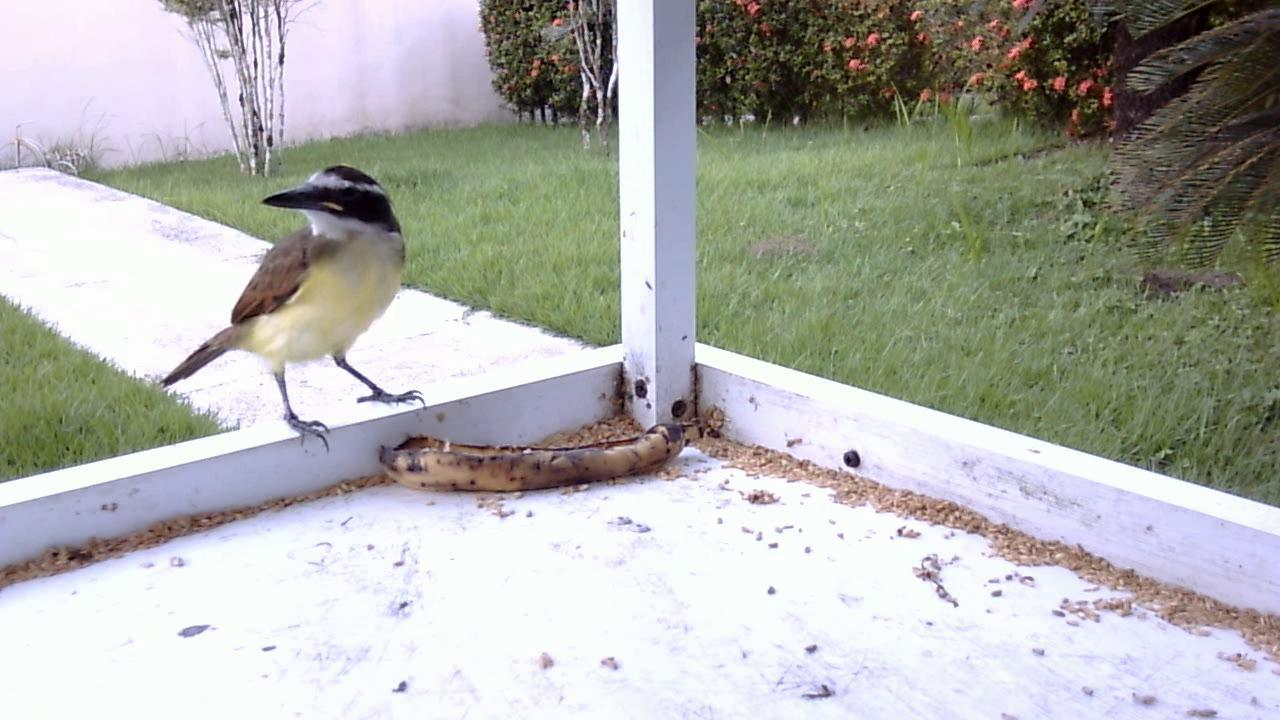bem_te_vi: (154, 148, 434, 464)
